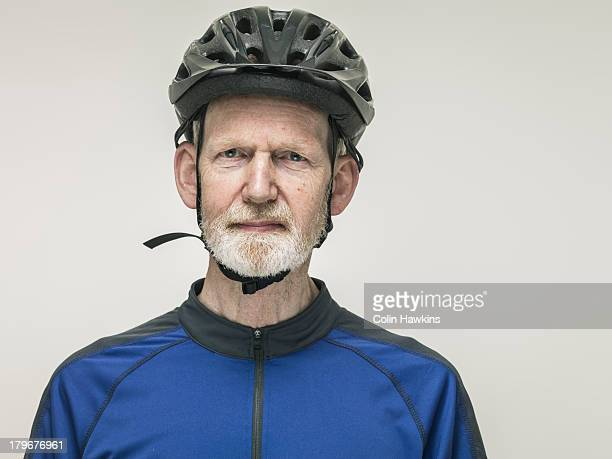helmet: (169, 6, 375, 277)
